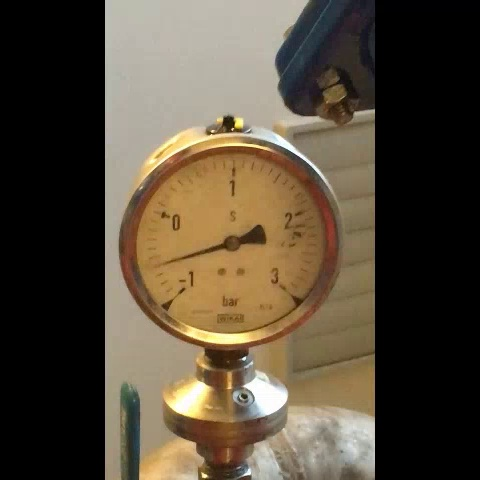Round_Meter: (132, 145, 332, 343)
